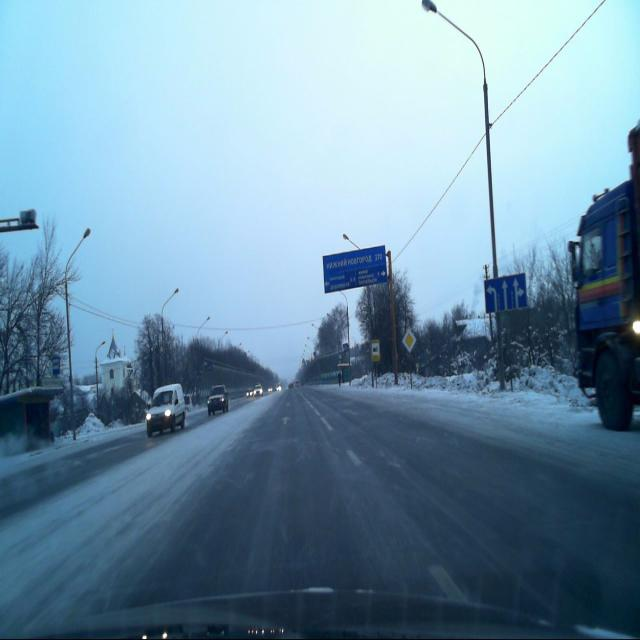road sign: (486, 275, 526, 313), (402, 327, 416, 353)
